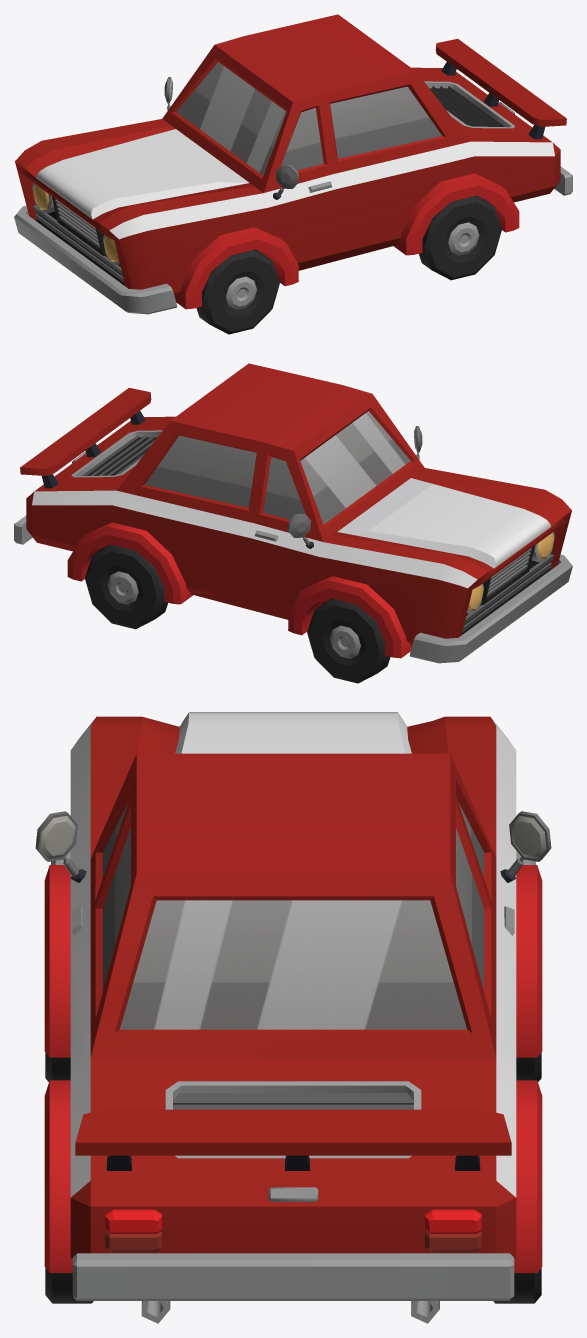
Rendered from Car_9_V.gltf.
The picture shows the model from 3 angles, top to bottom: view 1: azimuth 30°, elevation 25°; view 2: azimuth 150°, elevation 25°; view 3: azimuth 270°, elevation 25°; orthographic projection. The views are drawn at different scales.
Visible parts, largest first — view 1: Car_9_V, RL, FL; view 2: Car_9_V, RR, FR; view 3: Car_9_V, RL, RR.
Boxes of the visible parts, x1=… form: Car_9_V: x1=14, y1=14, x2=572, y2=314; RL: x1=419, y1=195, x2=501, y2=280; FL: x1=196, y1=249, x2=279, y2=334; Car_9_V: x1=14, y1=363, x2=572, y2=663; RR: x1=85, y1=544, x2=167, y2=629; FR: x1=307, y1=598, x2=390, y2=683; Car_9_V: x1=35, y1=712, x2=551, y2=1323; RL: x1=45, y1=1268, x2=93, y2=1303; RR: x1=493, y1=1268, x2=541, y2=1303.
Bounding box in the file's own units: 3.1 × 1.28 × 1.51.
4 materials, 4 textured.
